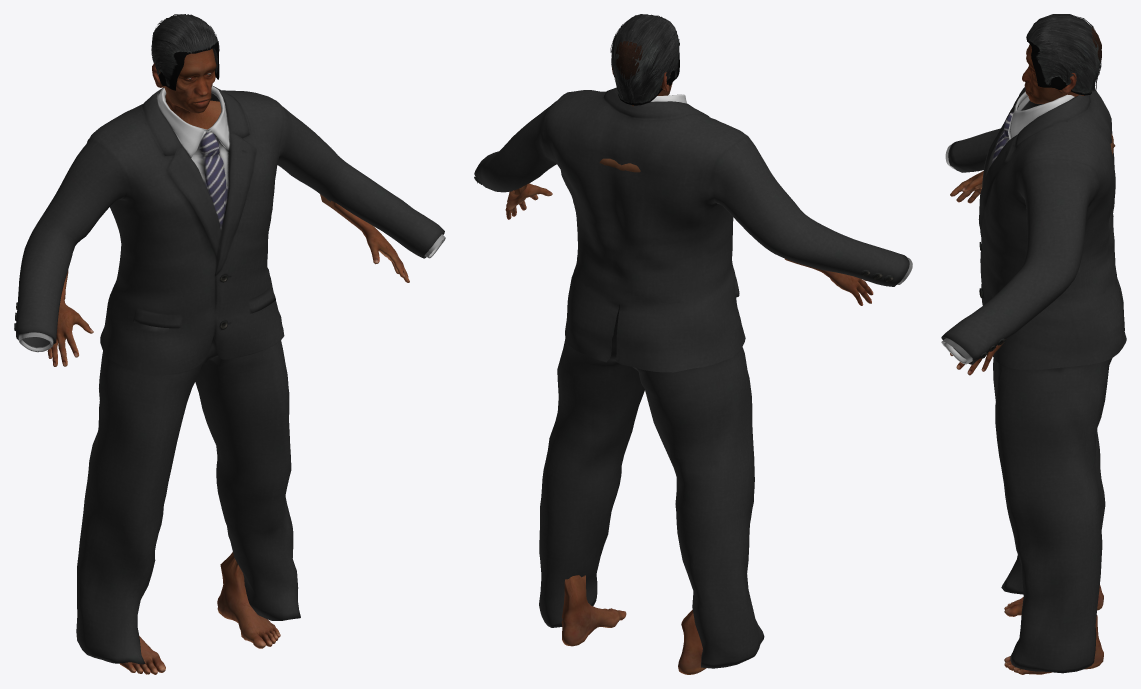
File: salim.glb
The picture shows the model from 3 angles, left to right: view 1: azimuth 30°, elevation 25°; view 2: azimuth 150°, elevation 25°; view 3: azimuth 270°, elevation 25°; orthographic projection.
Parts seen in each view (by area): view 1: clothes_male_elegantsuit01, Human, hair_short04; view 2: clothes_male_elegantsuit01, Human, hair_short04; view 3: clothes_male_elegantsuit01, hair_short04, Human.
Boxes of the visible parts, x1=… form: clothes_male_elegantsuit01: x1=14, y1=85, x2=445, y2=664; Human: x1=47, y1=48, x2=409, y2=674; hair_short04: x1=151, y1=14, x2=219, y2=90; clothes_male_elegantsuit01: x1=474, y1=87, x2=912, y2=668; Human: x1=505, y1=41, x2=873, y2=674; hair_short04: x1=610, y1=14, x2=679, y2=105; clothes_male_elegantsuit01: x1=941, y1=87, x2=1126, y2=673; hair_short04: x1=1026, y1=14, x2=1101, y2=95; Human: x1=950, y1=27, x2=1115, y2=674.
Bounding box in the file's own units: 1.24 × 1.73 × 0.4653.
4 materials, 4 textured.
